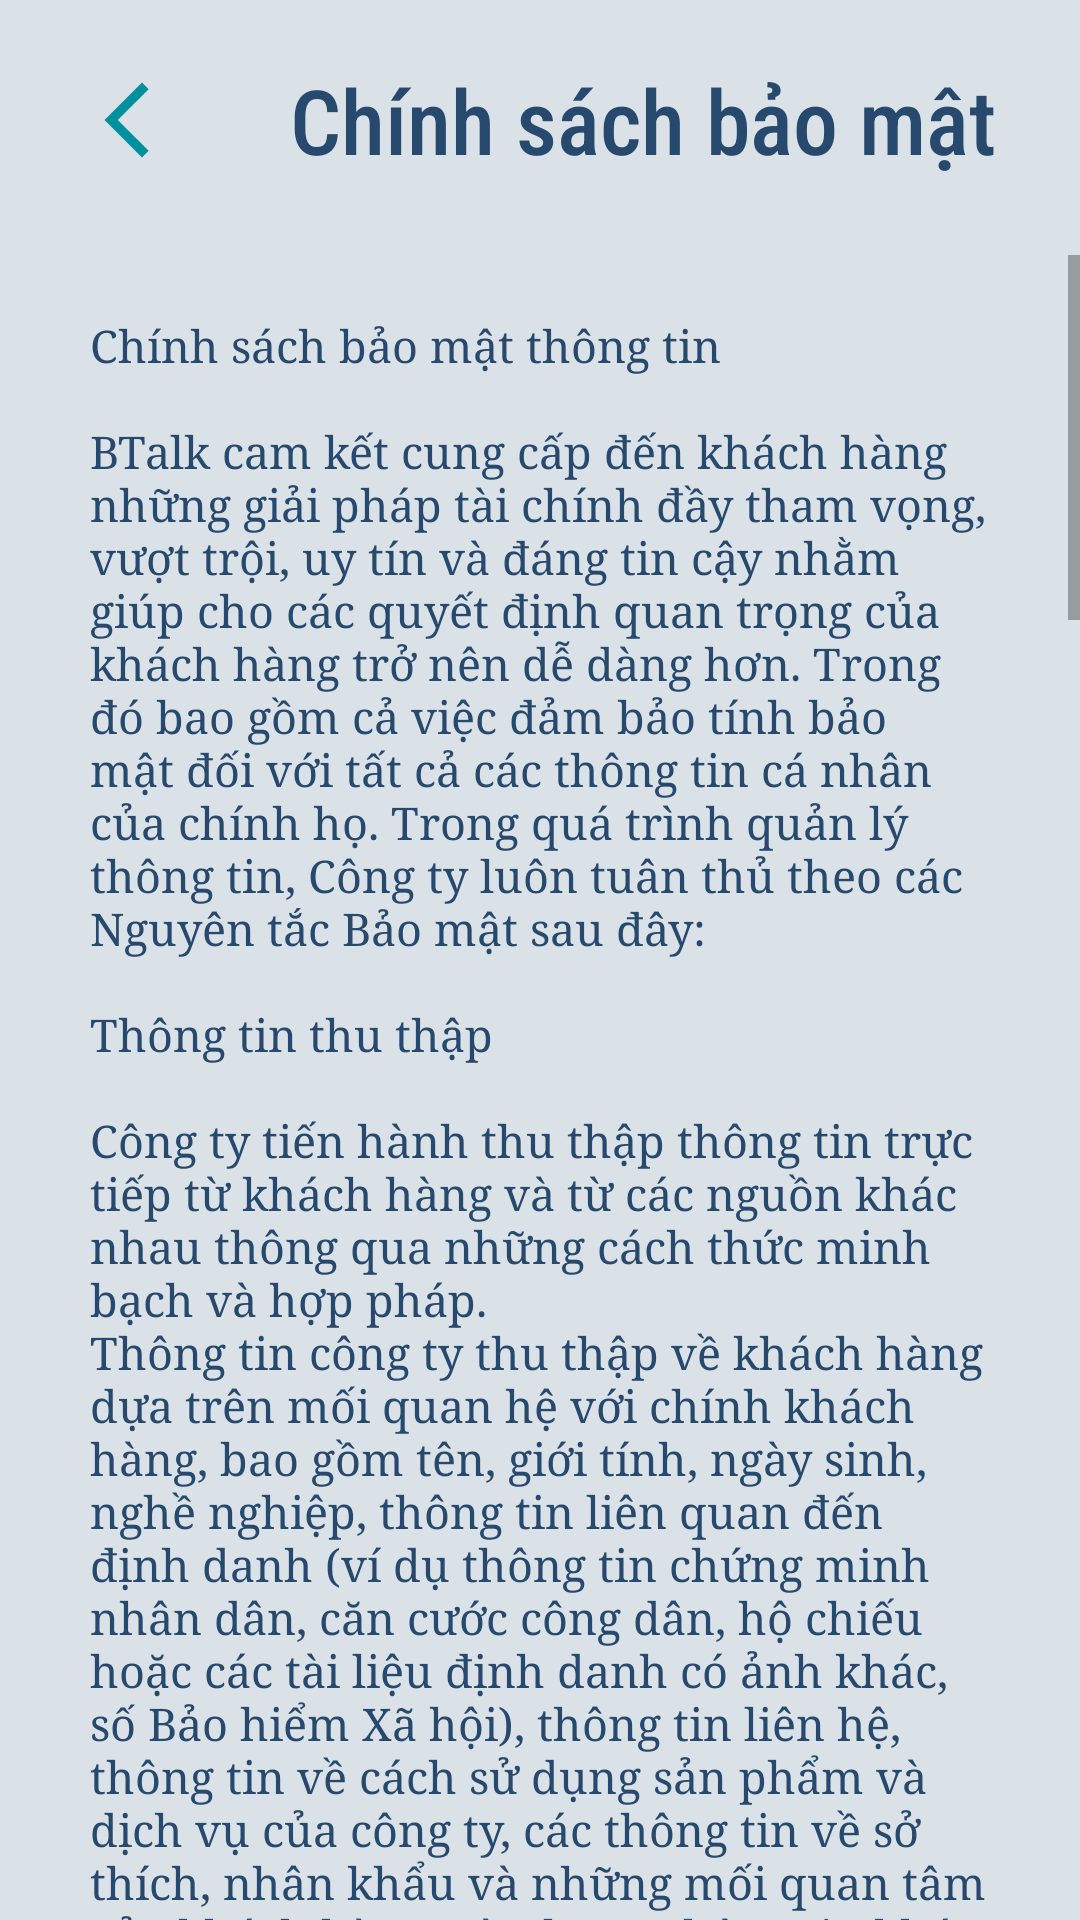

Named icons in this screenshot (1080w x 1920h) and their centers, point (x, y):
back: point (126, 120)
